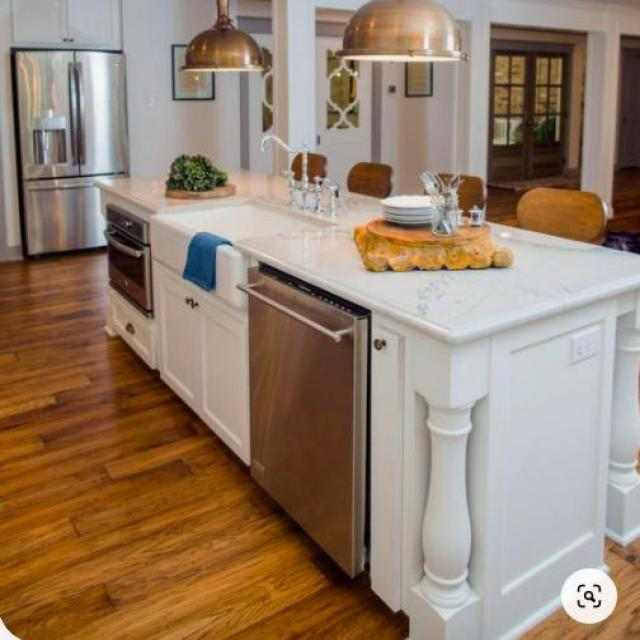dishwasher: (233, 252, 374, 595)
